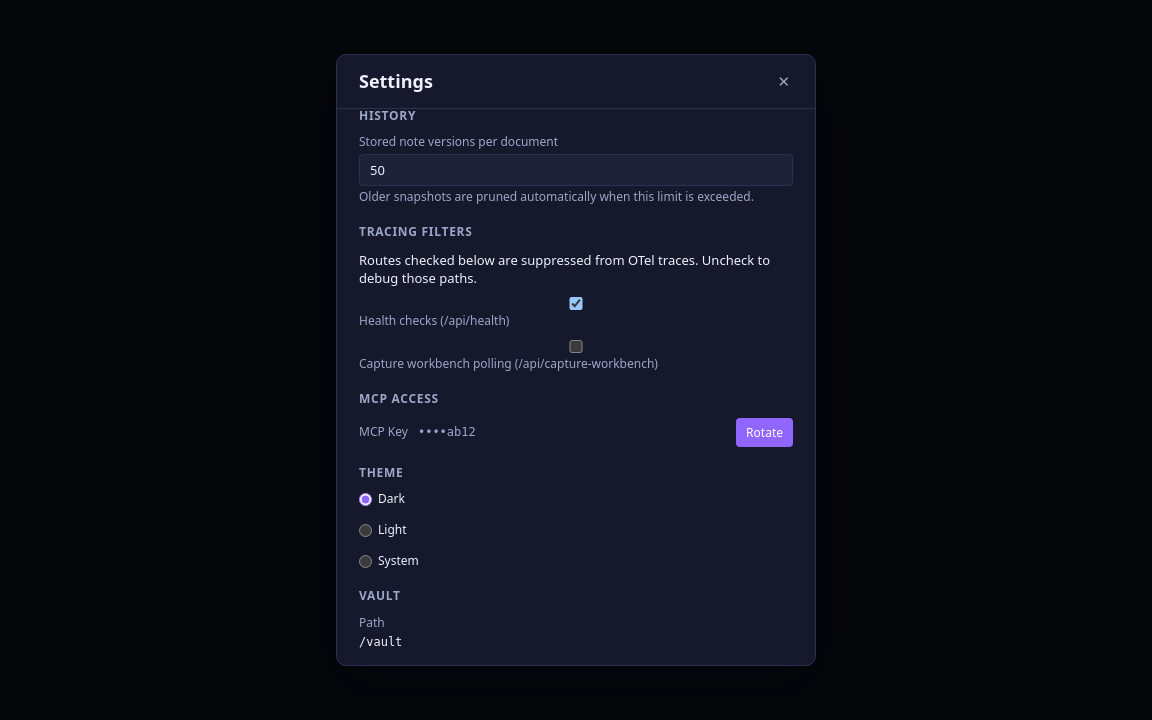
Test: SettingsModal — MCP key rotation failure › shows an error when rotateMcpKey rejects
(page scrolled)
Click the button with test id "rotate-key-btn".
click(765, 432)  # box [736, 418, 793, 446]
(page scrolled)
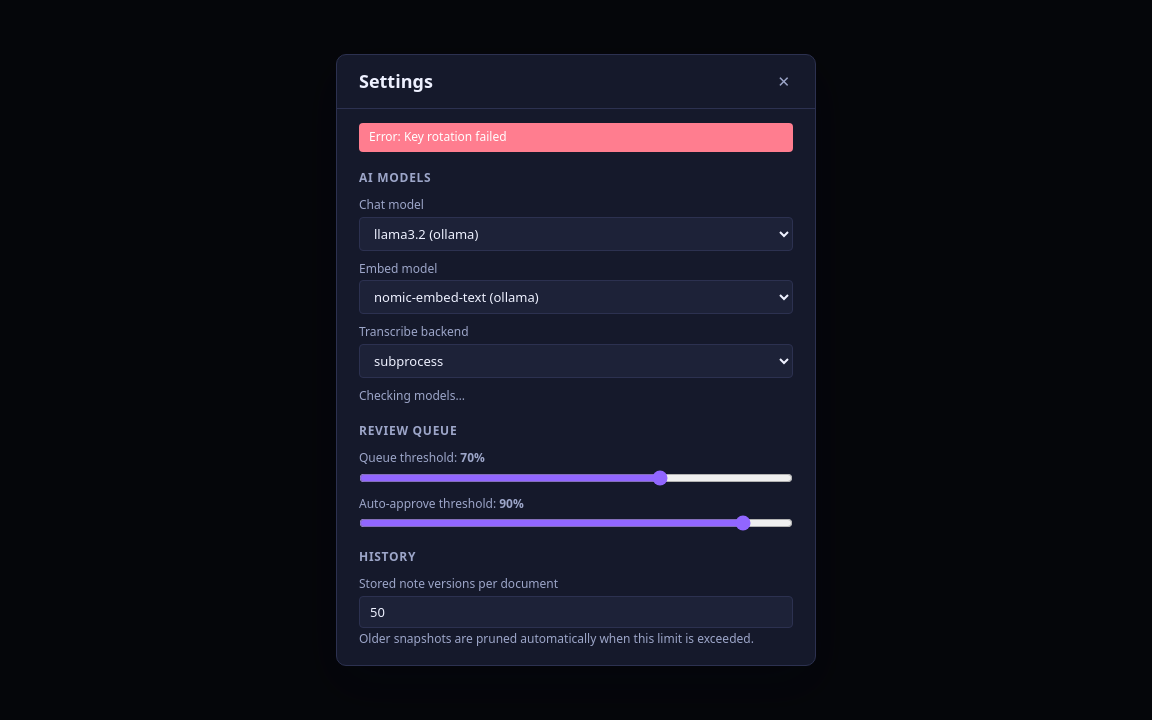
Expected: the text with test id "settings-error" shows "Key rotation failed", [369, 128, 507, 145]
